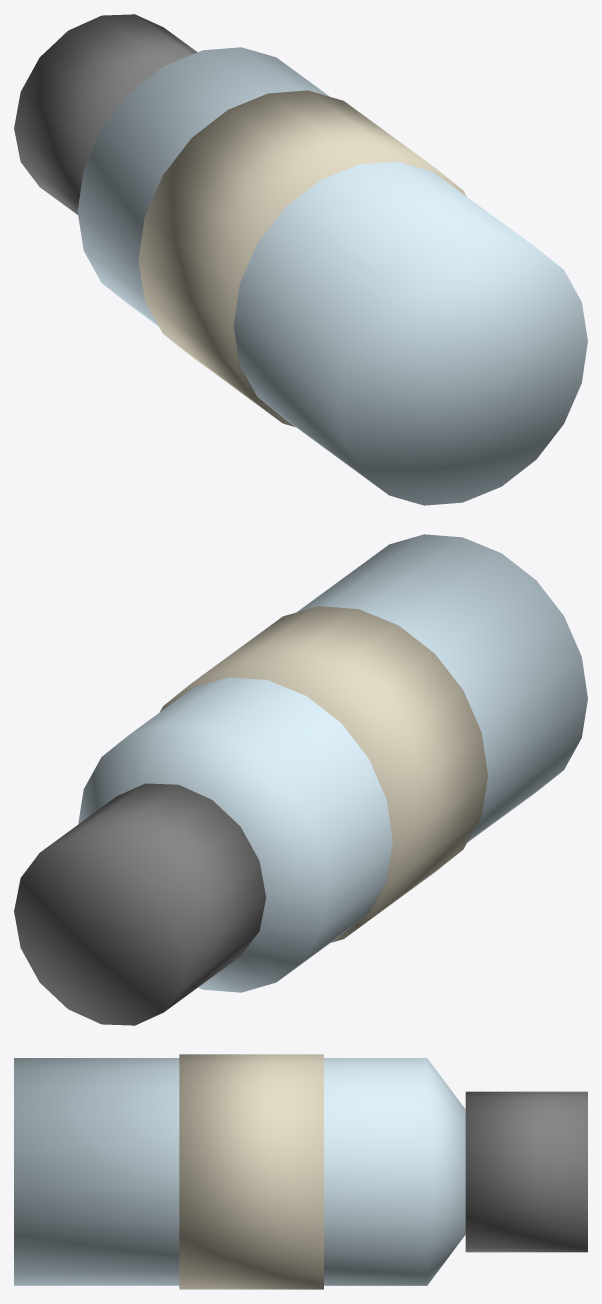
The model's file is vial.glb.
3 renders of one model, top to bottom at view 1: azimuth 30°, elevation 25°; view 2: azimuth 150°, elevation 25°; view 3: azimuth 270°, elevation 25°, orthographic. The views are drawn at different scales.
Parts seen in each view (by area): view 1: Glass, Label, Cap; view 2: Glass, Cap, Label; view 3: Glass, Label, Cap.
Boxes of the visible parts, <box> form: Glass: <box>77,47,587,505</box>; Label: <box>138,90,466,427</box>; Cap: <box>14,14,197,214</box>; Glass: <box>78,534,587,992</box>; Cap: <box>14,783,266,1025</box>; Label: <box>160,606,487,942</box>; Glass: <box>14,1058,465,1285</box>; Label: <box>179,1054,323,1289</box>; Cap: <box>465,1091,587,1252</box>.
Size of the model in its own units: 0.0248 by 0.0248 by 0.06.
